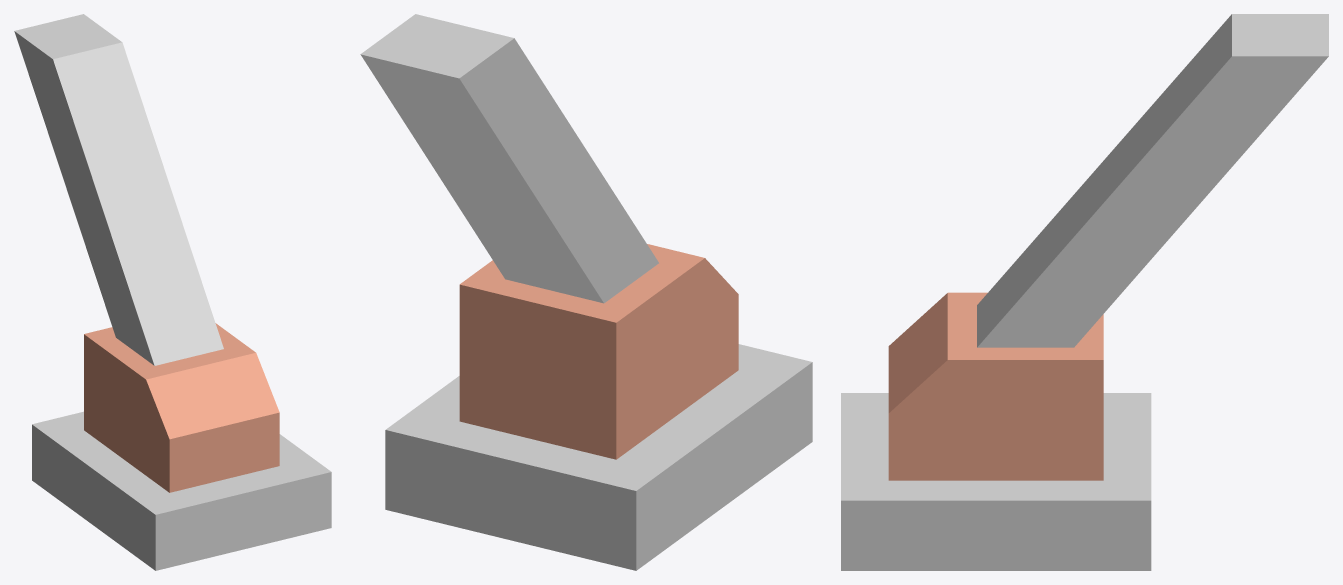
File: spaceCraftStand.fbx
3 views of the same model, side by side, from view 1: azimuth 30°, elevation 25°; view 2: azimuth 150°, elevation 25°; view 3: azimuth 270°, elevation 25° (orthographic). The views are drawn at different scales.
Parts seen in each view (by area): view 1: spaceCraftStand; view 2: spaceCraftStand; view 3: spaceCraftStand.
Boxes of the visible parts, left/top/right/bottom form: spaceCraftStand: left=14, top=14, right=331, bottom=570; spaceCraftStand: left=360, top=14, right=812, bottom=570; spaceCraftStand: left=841, top=14, right=1328, bottom=570.
Bounding box in the file's own units: 230 × 480 × 440.
